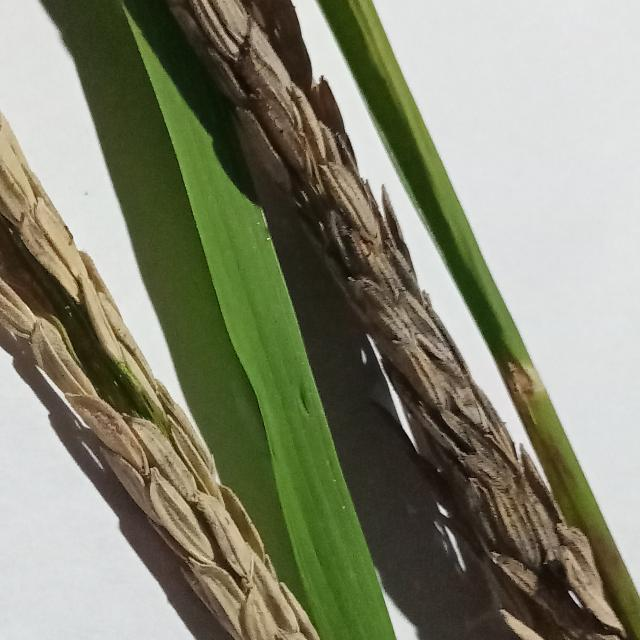Neck_Blast: (150, 0, 637, 640), (0, 108, 324, 640)
